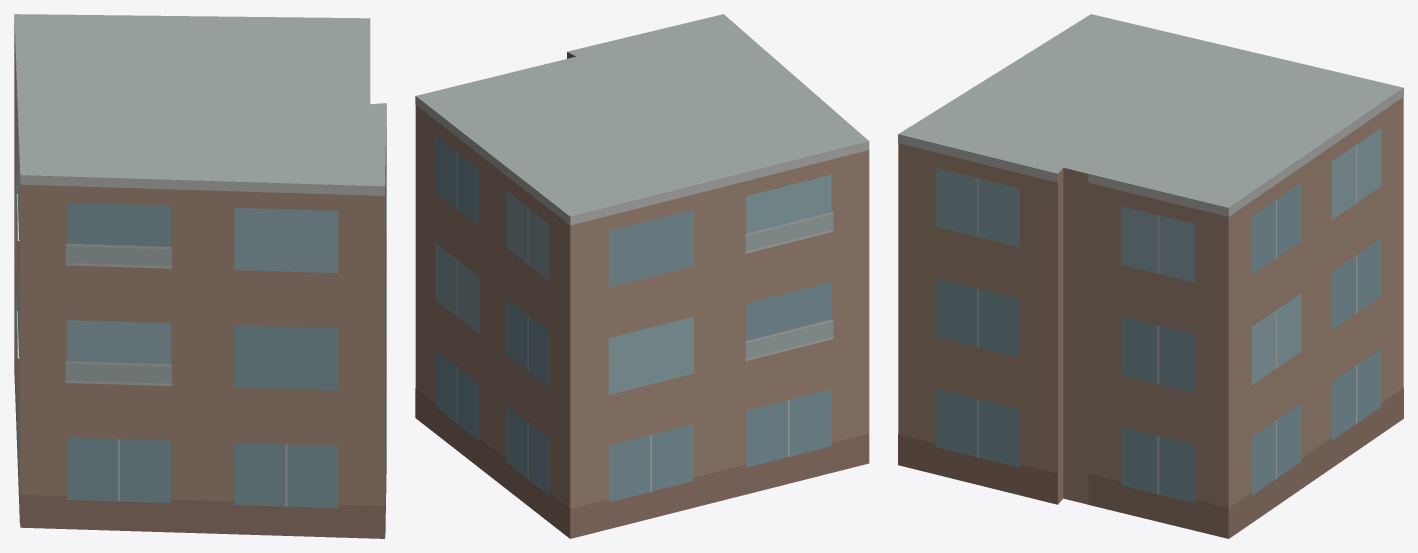
Rendered from survey-upis-32609132.glb.
3 views of the same model, side by side, from view 1: azimuth 30°, elevation 25°; view 2: azimuth 150°, elevation 25°; view 3: azimuth 270°, elevation 25° (orthographic). The views are drawn at different scales.
Visible parts, largest first — view 1: survey-upis-32609132.tmp; view 2: survey-upis-32609132.tmp; view 3: survey-upis-32609132.tmp.
Part boxes in pixels (x1,y1,x2,y2): survey-upis-32609132.tmp: (14,14,386,538); survey-upis-32609132.tmp: (415,14,869,538); survey-upis-32609132.tmp: (898,14,1403,538).
Size of the model in its own units: 11.32 by 9 by 12.47.
